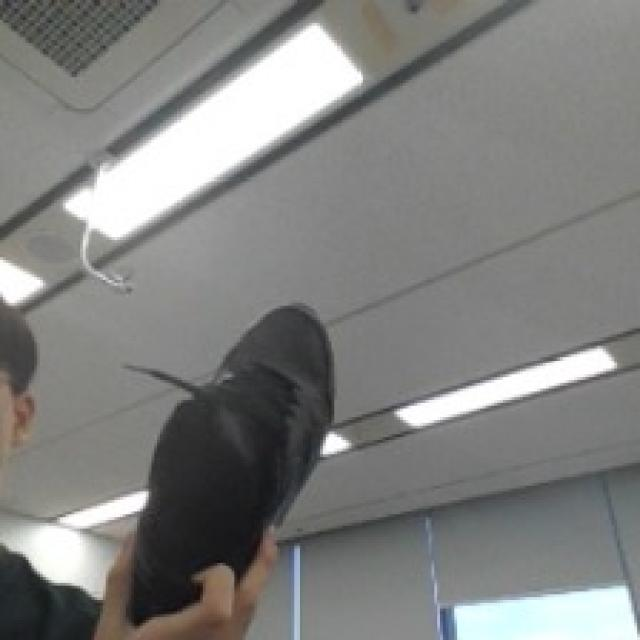shoe: (128, 296, 344, 634)
